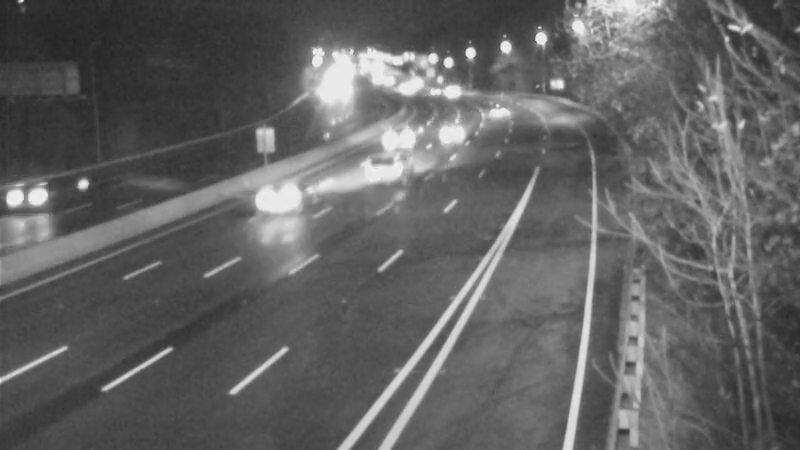vehicle: (343, 126, 423, 206), (253, 149, 333, 229), (1, 159, 78, 239), (436, 67, 486, 117), (472, 86, 522, 136), (432, 106, 482, 156), (368, 115, 418, 165)
